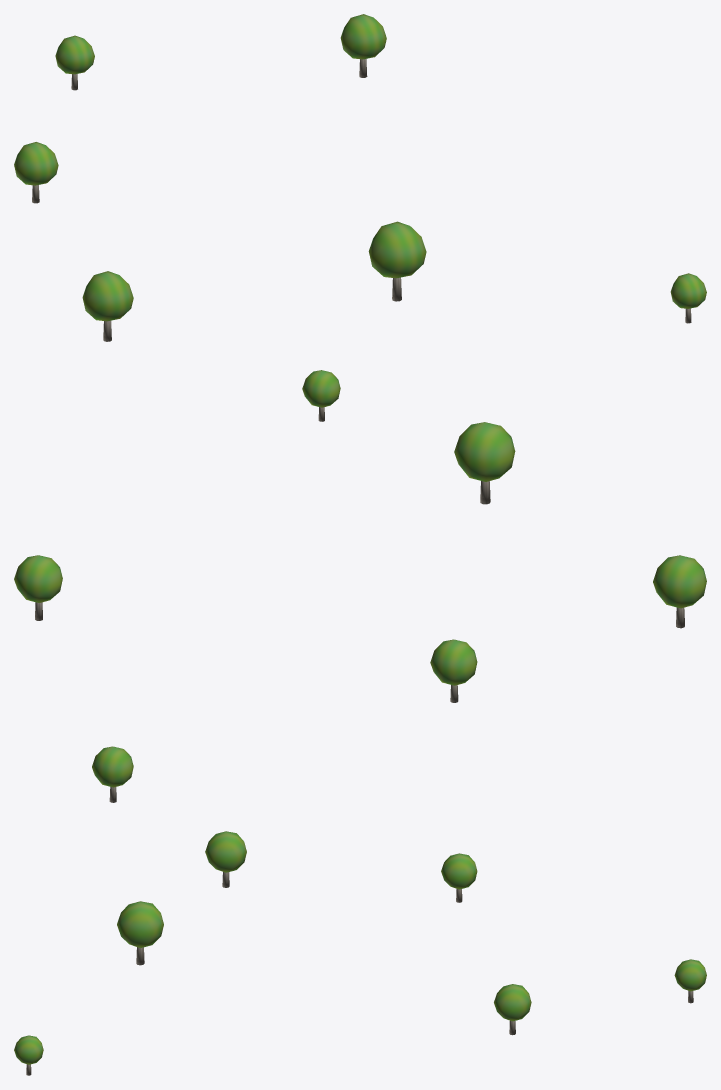
The model's file is ISL-L_LOD0_Trees.fbx.
3 renders of one model, top to bottom at view 1: azimuth 30°, elevation 25°; view 2: azimuth 150°, elevation 25°; view 3: azimuth 270°, elevation 25°, orthographic. The views are drawn at different scales.
Parts seen in each view (by area): view 1: ISL-L_LOD0_Trees; view 2: ISL-L_LOD0_Trees; view 3: ISL-L_LOD0_Trees.
Part boxes in pixels (x1,y1,x2,y2): ISL-L_LOD0_Trees: (14,14,706,341); ISL-L_LOD0_Trees: (14,370,706,802); ISL-L_LOD0_Trees: (14,831,706,1075).
Bounding box in the file's own units: 47.29 × 69.83 × 10.44.
